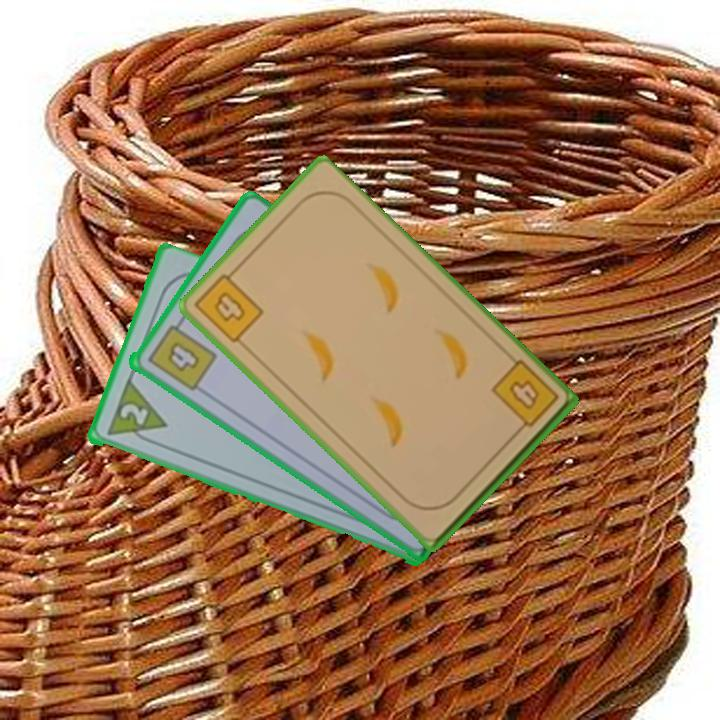2p: (115, 399, 151, 429)
4b: (191, 264, 267, 347), (487, 356, 562, 439), (142, 314, 219, 394)
